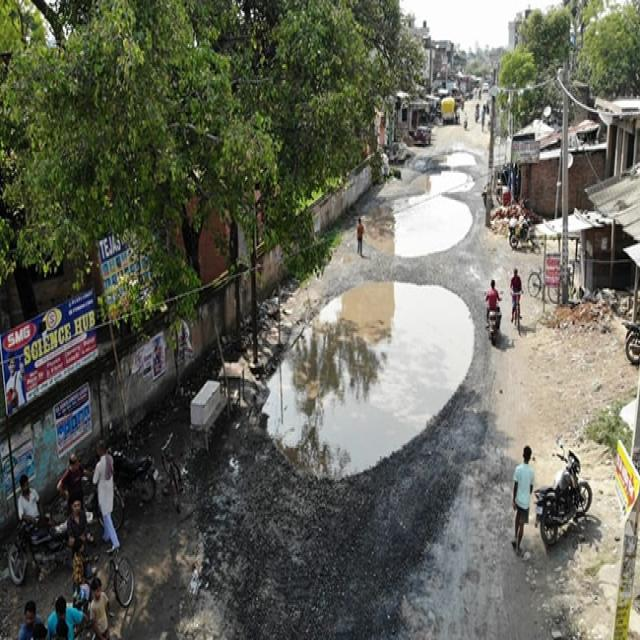Pothole: (262, 282, 475, 482), (358, 150, 477, 258)
